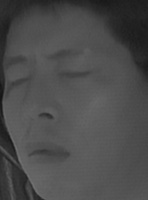blink: (56, 66, 94, 86), (5, 74, 30, 90)
mouth: (20, 137, 74, 171)
